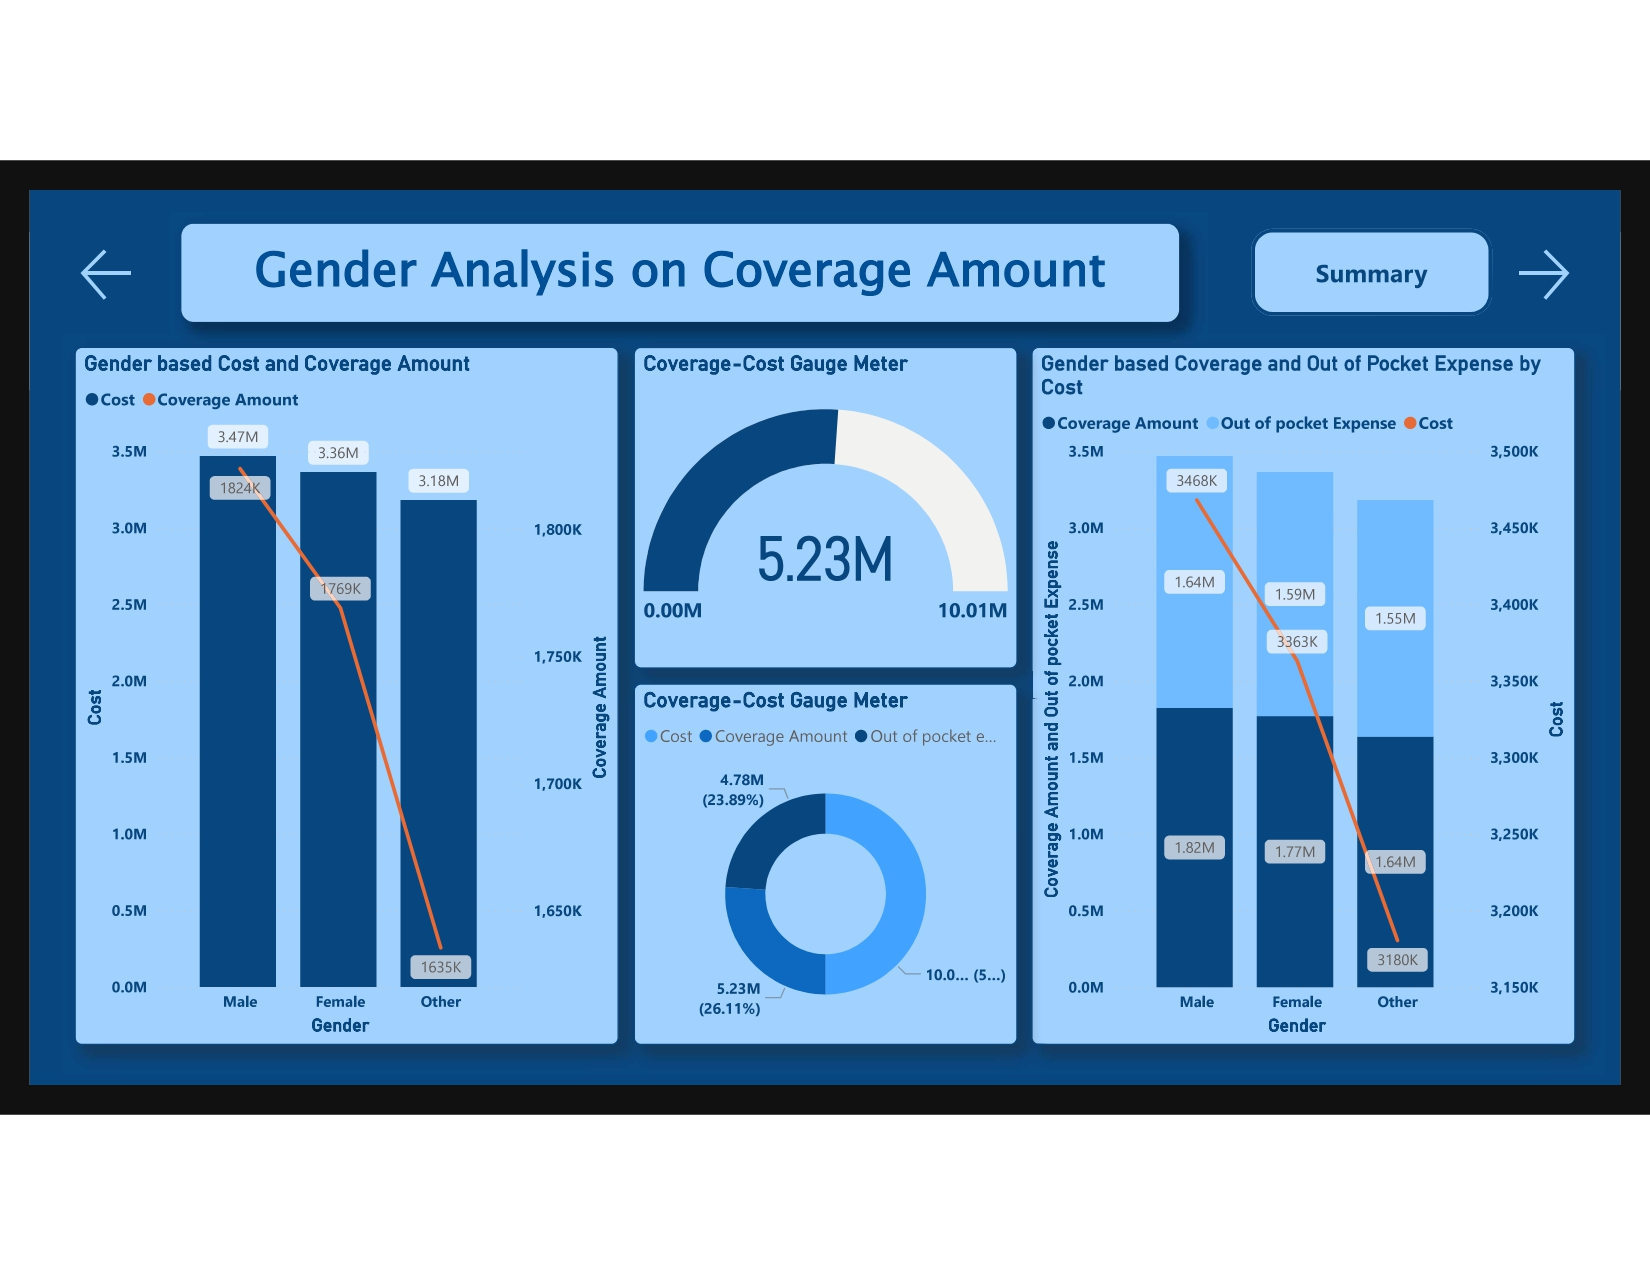

The page's visual inventory and layout, read from the dashboard file:
{"tool":"powerbi","page":{"name":"Gender Analysis","canvas":[1280,720],"ordinal":2},"visuals":[{"type":"textbox","box":[121.9,26.8,802.7,78.8],"z":0},{"type":"lineClusteredColumnComboChart","title":"Gender based Cost and Coverage Amount","fields":{"Category":["Health_Care_Project (real time).Gender"],"Y":["Sum(Health_Care_Project (real time).Cost)"],"Y2":["Sum(Health_Care_Project (real time).Coverage Amount)"]},"box":[35.7,126.3,438.5,561.9],"z":1000},{"type":"lineStackedColumnComboChart","title":"Gender based Coverage and Out of Pocket Expense by Cost","fields":{"Category":["Health_Care_Project (real time).Gender"],"Y":["Sum(Health_Care_Project (real time).Coverage Amount)","Sum(Health_Care_Project (real time).Out ofpocket exp)"],"Y2":["Sum(Health_Care_Project (real time).Cost)"]},"box":[805.6,126.3,438.5,561.9],"z":2000},{"type":"gauge","title":"Coverage-Cost Gauge Meter","fields":{"Y":["Sum(Health_Care_Project (real time).Coverage Amount)"],"MaxValue":["Sum(Health_Care_Project (real time).Cost)"]},"box":[486.1,126.3,309.2,258.6],"z":3000},{"type":"donutChart","title":"Coverage-Cost Gauge Meter","fields":{"Y":["Sum(Health_Care_Project (real time).Cost)","Sum(Health_Care_Project (real time).Coverage Amount)","Sum(Health_Care_Project (real time).Out ofpocket exp)"]},"box":[486.1,396.9,309.2,291.3],"z":4000},{"type":"actionButton","box":[35.7,41.6,55,52],"z":4001},{"type":"actionButton","box":[1192.1,41.6,52,52],"z":4002},{"type":"actionButton","box":[982.5,31.2,194.7,69.9],"z":4003}]}

Visuals, with their boxes on the page's 1280x720 design canvas (x1, y1, x2, y2). These are canvas units, not pixel positions in the 1650x1275 screenshot, which may show the page scaled, cropped or inside an application window:
textbox: l=122, t=27, r=925, b=106
"Gender based Cost and Coverage Amount" lineClusteredColumnComboChart: l=36, t=126, r=474, b=688
"Gender based Coverage and Out of Pocket Expense by Cost" lineStackedColumnComboChart: l=806, t=126, r=1244, b=688
"Coverage-Cost Gauge Meter" gauge: l=486, t=126, r=795, b=385
"Coverage-Cost Gauge Meter" donutChart: l=486, t=397, r=795, b=688
actionButton: l=36, t=42, r=91, b=94
actionButton: l=1192, t=42, r=1244, b=94
actionButton: l=982, t=31, r=1177, b=101
